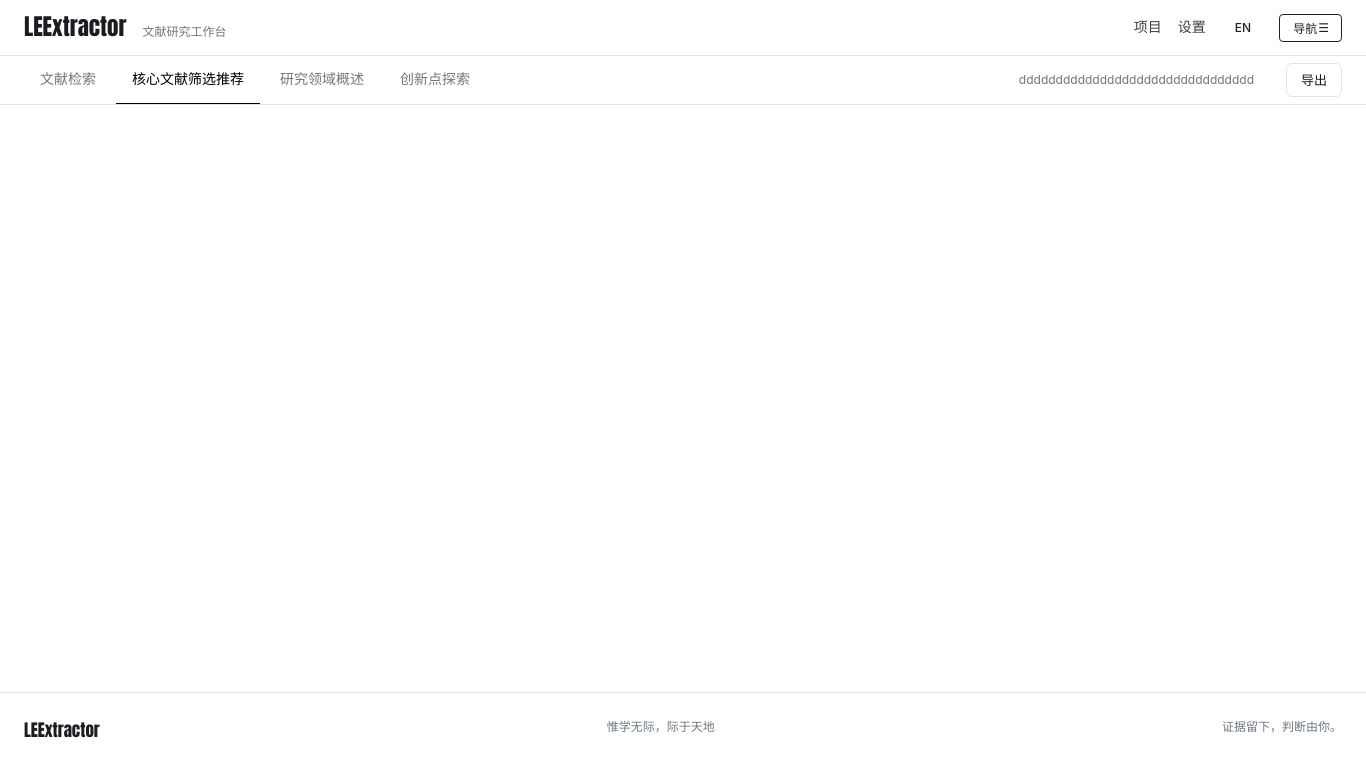
Test: AppNav › lists the new navigation inside a project: home, new research, four stages, export, all projects, settings
Click the button "导航 ☰" at (1311, 28), box [1279, 14, 1342, 42]
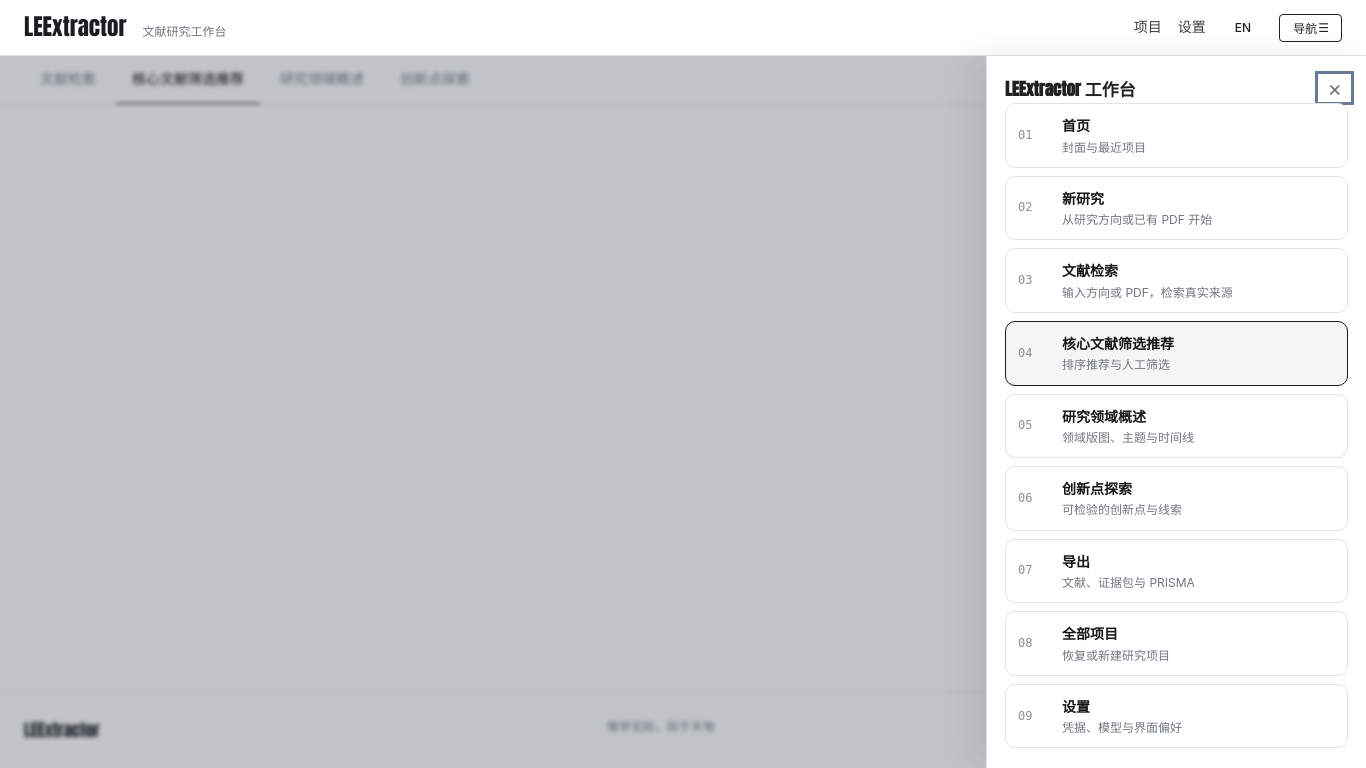
Expected: the text with class "navmap__idx" reads "01", [1018, 128, 1032, 142]
